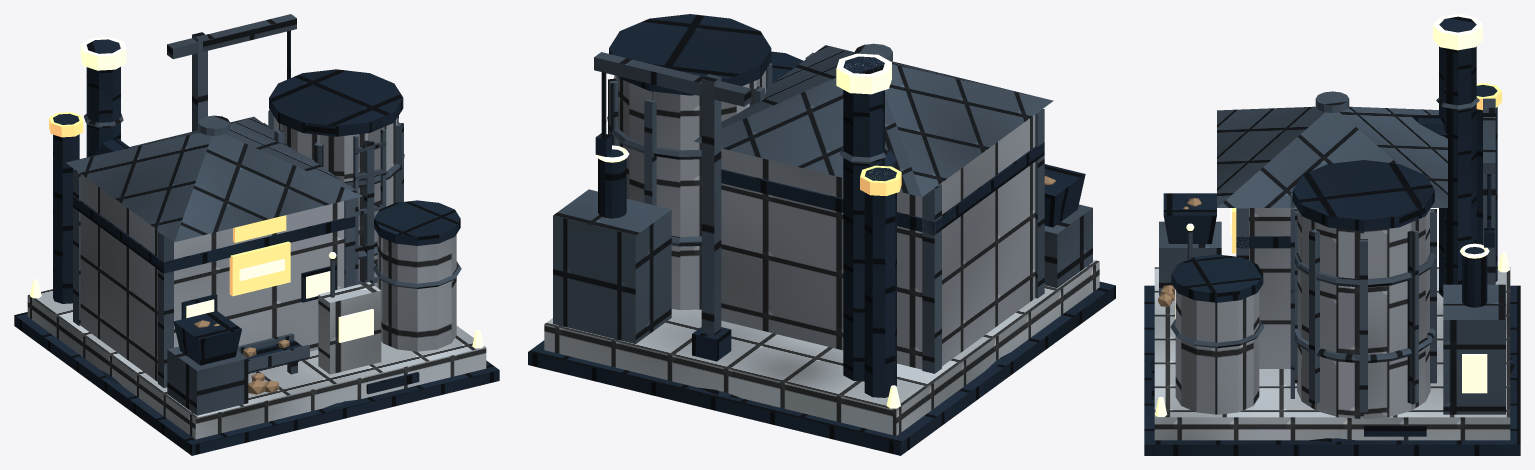
File: AlloyExtractor.fbx
3 renders of one model, left to right at view 1: azimuth 30°, elevation 25°; view 2: azimuth 150°, elevation 25°; view 3: azimuth 270°, elevation 25°, orthographic. The views are drawn at different scales.
Visible parts, largest first — view 1: Alloy_Block, Alloy_Roof, Alloy_Tier, Alloy_Plinth, Alloy_Silo2, Alloy_SiloCap, Alloy_Control, Alloy_Silo, Alloy_CrusherBase, Alloy_Stack2, Alloy_Band, Alloy_Silo2Cap (+23 smaller); view 2: Alloy_Block, Alloy_Tier, Alloy_Roof, Alloy_Furnace, Alloy_Plinth, Alloy_Silo, Alloy_SiloCap, Alloy_Stack, Alloy_Stack2, Alloy_CraneMast, Alloy_Band, Alloy_Pilaster_02 (+13 smaller); view 3: Alloy_Silo, Alloy_Roof, Alloy_Tier, Alloy_Plinth, Alloy_Silo2, Alloy_SiloCap, Alloy_Stack, Alloy_Furnace, Alloy_Block, Alloy_Silo2Cap, Alloy_Hopper, Alloy_SiloRib_02 (+20 smaller).
Part boxes in pixels (bbox=[...]): Alloy_Block: bbox=[80, 174, 344, 381]; Alloy_Roof: bbox=[66, 116, 362, 242]; Alloy_Tier: bbox=[27, 289, 486, 439]; Alloy_Plinth: bbox=[14, 312, 499, 455]; Alloy_Silo2: bbox=[377, 234, 456, 351]; Alloy_SiloCap: bbox=[269, 69, 403, 136]; Alloy_Control: bbox=[318, 282, 381, 374]; Alloy_Silo: bbox=[273, 116, 398, 287]; Alloy_CrusherBase: bbox=[167, 346, 248, 415]; Alloy_Stack2: bbox=[53, 113, 79, 303]; Alloy_Band: bbox=[73, 196, 355, 273]; Alloy_Silo2Cap: bbox=[374, 200, 460, 245]; Alloy_Block: bbox=[721, 115, 1035, 369]; Alloy_Tier: bbox=[544, 259, 1099, 435]; Alloy_Roof: bbox=[694, 45, 1053, 197]; Alloy_Furnace: bbox=[553, 189, 671, 343]; Alloy_Plinth: bbox=[528, 281, 1115, 455]; Alloy_Silo: bbox=[614, 70, 765, 309]; Alloy_SiloCap: bbox=[609, 14, 771, 95]; Alloy_Stack: bbox=[843, 56, 884, 381]; Alloy_Stack2: bbox=[864, 167, 896, 397]; Alloy_CraneMast: bbox=[701, 74, 721, 335]; Alloy_Band: bbox=[721, 142, 1044, 234]; Alloy_Pilaster_02: bbox=[922, 184, 941, 373]; Alloy_Silo: bbox=[1297, 208, 1430, 419]; Alloy_Roof: bbox=[1217, 106, 1447, 207]; Alloy_Tier: bbox=[1154, 267, 1510, 440]; Alloy_Plinth: bbox=[1144, 285, 1520, 455]; Alloy_Silo2: bbox=[1175, 290, 1259, 414]; Alloy_SiloCap: bbox=[1292, 160, 1434, 231]; Alloy_Stack: bbox=[1439, 16, 1476, 297]; Alloy_Furnace: bbox=[1443, 284, 1505, 414]; Alloy_Block: bbox=[1249, 208, 1296, 368]; Alloy_Silo2Cap: bbox=[1171, 254, 1263, 302]; Alloy_Hopper: bbox=[1163, 193, 1216, 243]; Alloy_SiloRib_02: bbox=[1407, 229, 1418, 404].
Size of the model in its own units: 1.8 by 1.6 by 1.8.
